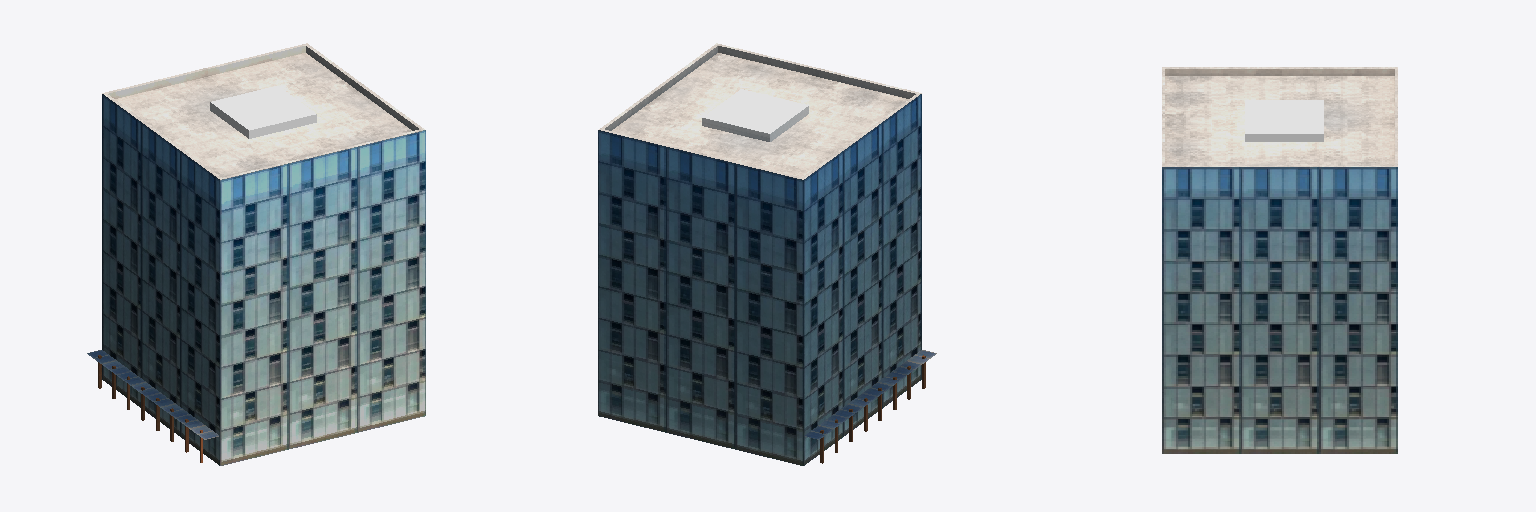
3 views of the same model, side by side, from view 1: azimuth 30°, elevation 25°; view 2: azimuth 150°, elevation 25°; view 3: azimuth 270°, elevation 25° (orthographic).
Parts seen in each view (by area): view 1: 4B1; view 2: 4B1; view 3: 4B1.
Boxes of the visible parts, <box> form: 4B1: <box>87,43,425,465</box>; 4B1: <box>598,43,936,465</box>; 4B1: <box>1162,67,1397,453</box>.
Bounding box in the file's own units: 32.28 × 40.18 × 30.
Materials: 1 (1 with a texture image).